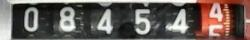digits: (164, 8, 190, 34), (133, 8, 150, 34), (96, 8, 113, 34), (59, 6, 76, 32), (23, 7, 39, 31), (209, 2, 223, 22)
